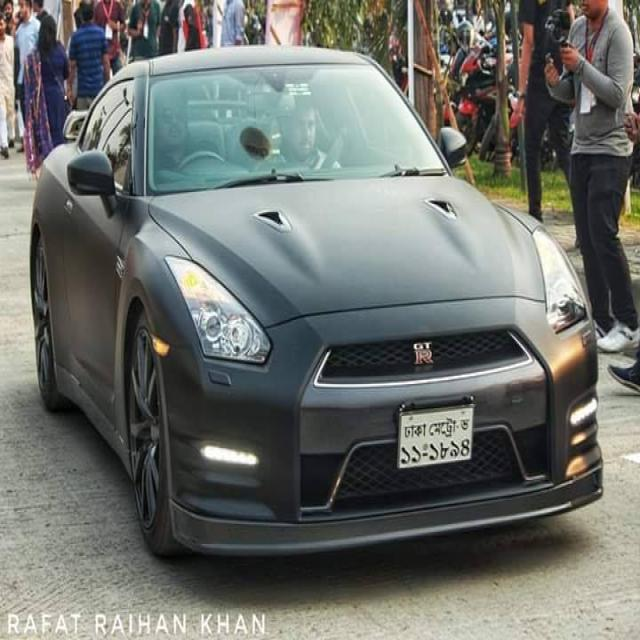numberplate: (396, 402, 474, 469)
